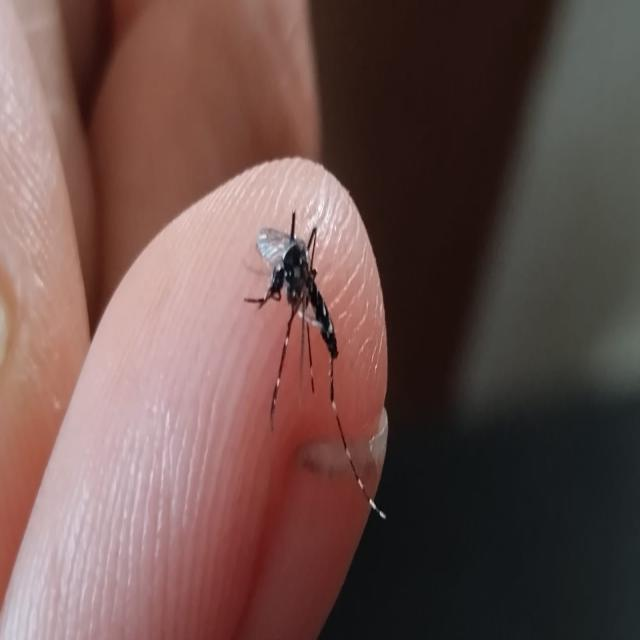albopictus: (240, 204, 370, 507)
